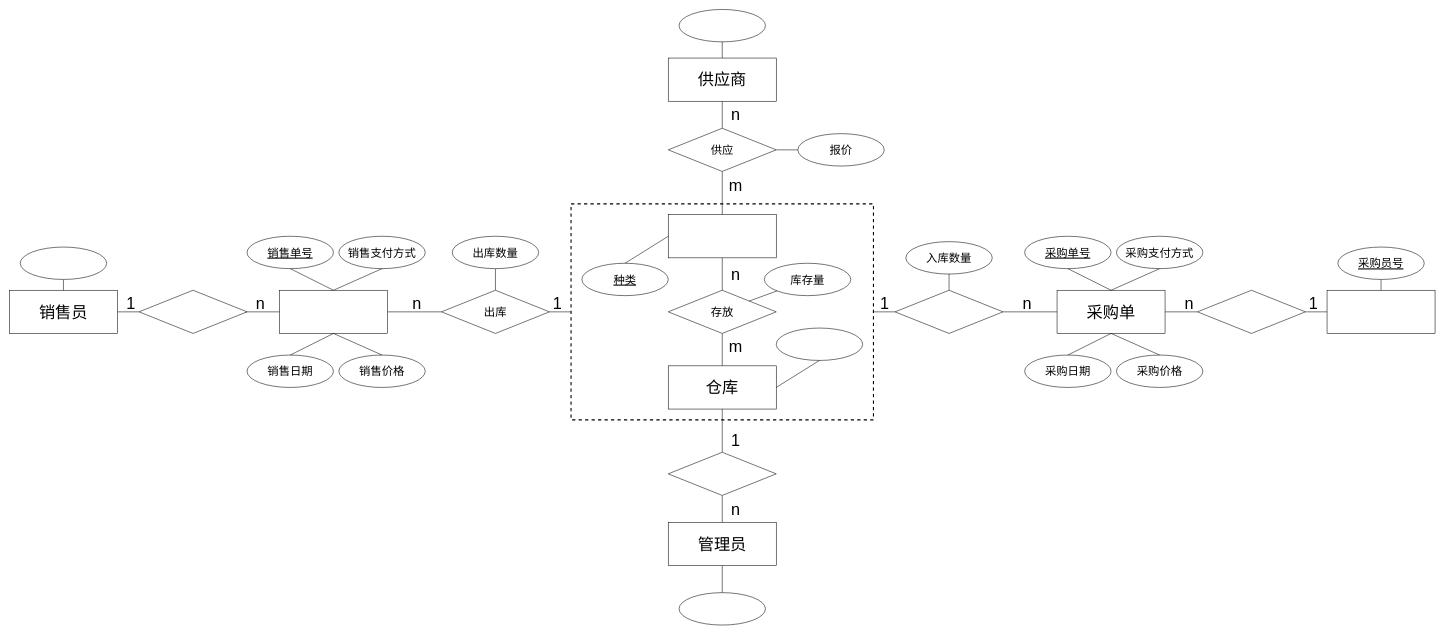
Image size: 1445x635. Some labels were removed from this diagram. Here are the shapes that lost their labels. From the top down, the centre of each, then its label:
the point at 722,25: 供应商号
the point at 722,236: 钢材
the point at 63,263: 销售员号
the point at 193,311: 管理销售单
the point at 333,311: 销售单
the point at 949,311: 入库
the point at 1251,311: 管理采购单
the point at 1381,311: 采购员
the point at 819,344: 仓库号
the point at 722,473: 管理
the point at 722,608: 管理员号
